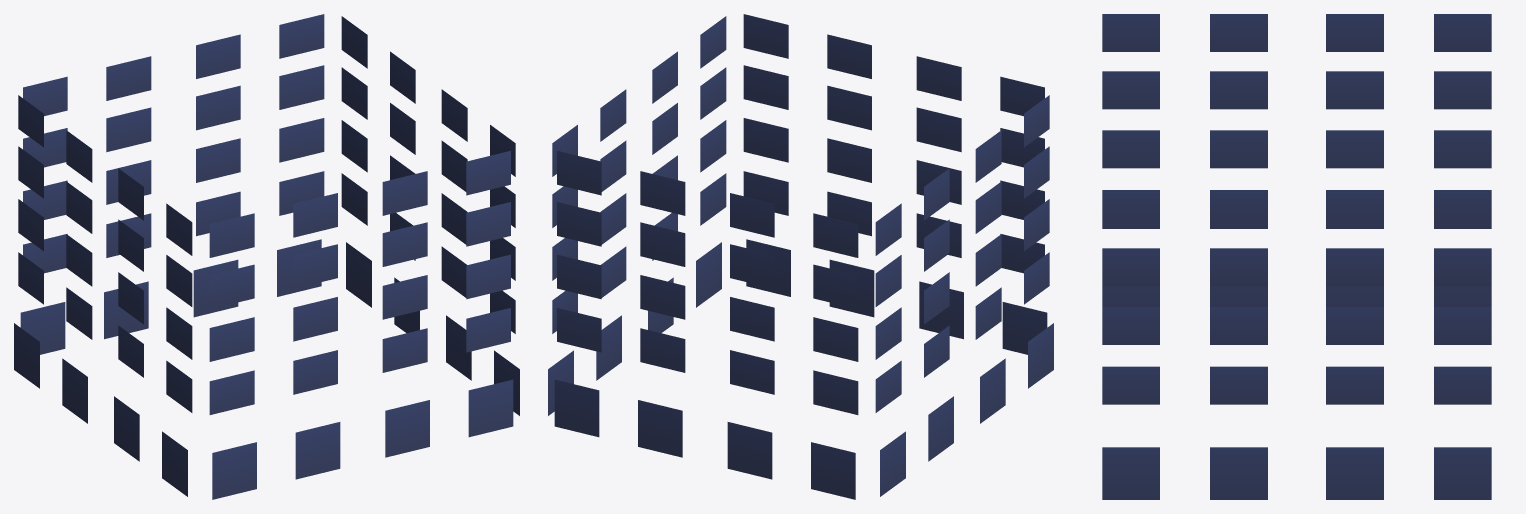
Rendered from windowRefl.136.fbx.
The picture shows the model from 3 angles, left to right: view 1: azimuth 30°, elevation 25°; view 2: azimuth 150°, elevation 25°; view 3: azimuth 270°, elevation 25°; orthographic projection. The views are drawn at different scales.
Visible parts, largest first — view 1: windowRefl.136; view 2: windowRefl.136; view 3: windowRefl.136.
Part boxes in pixels (x1,y1,x2,y2): windowRefl.136: [14, 14, 519, 499]; windowRefl.136: [548, 14, 1053, 499]; windowRefl.136: [1102, 14, 1491, 499].
Bounding box in the file's own units: 2150 × 2150 × 1695.
